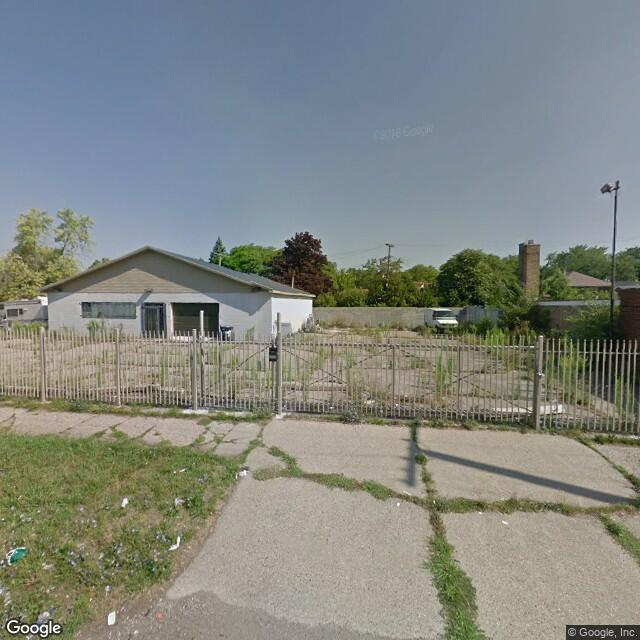litter: (157, 533, 188, 556), (4, 541, 28, 567), (100, 607, 124, 625), (31, 605, 61, 618), (170, 462, 189, 479), (169, 496, 187, 511), (120, 492, 133, 511), (233, 463, 249, 478), (393, 497, 406, 511), (426, 497, 441, 508), (500, 515, 510, 528)
